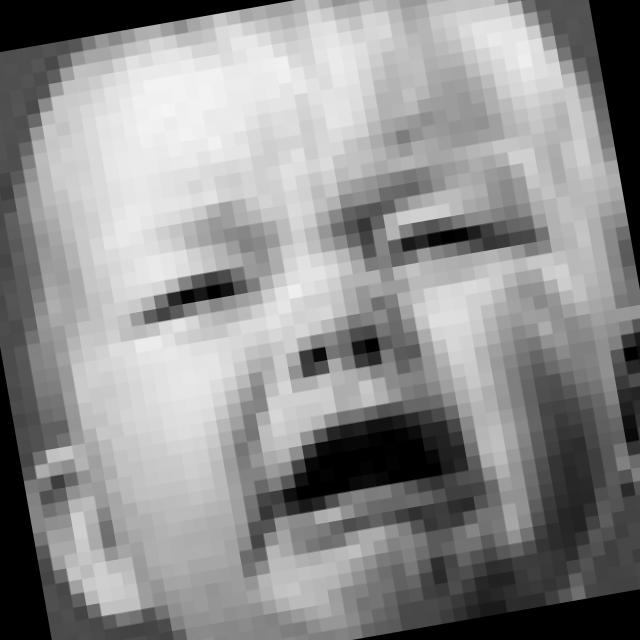sad: (96, 139, 610, 616)
